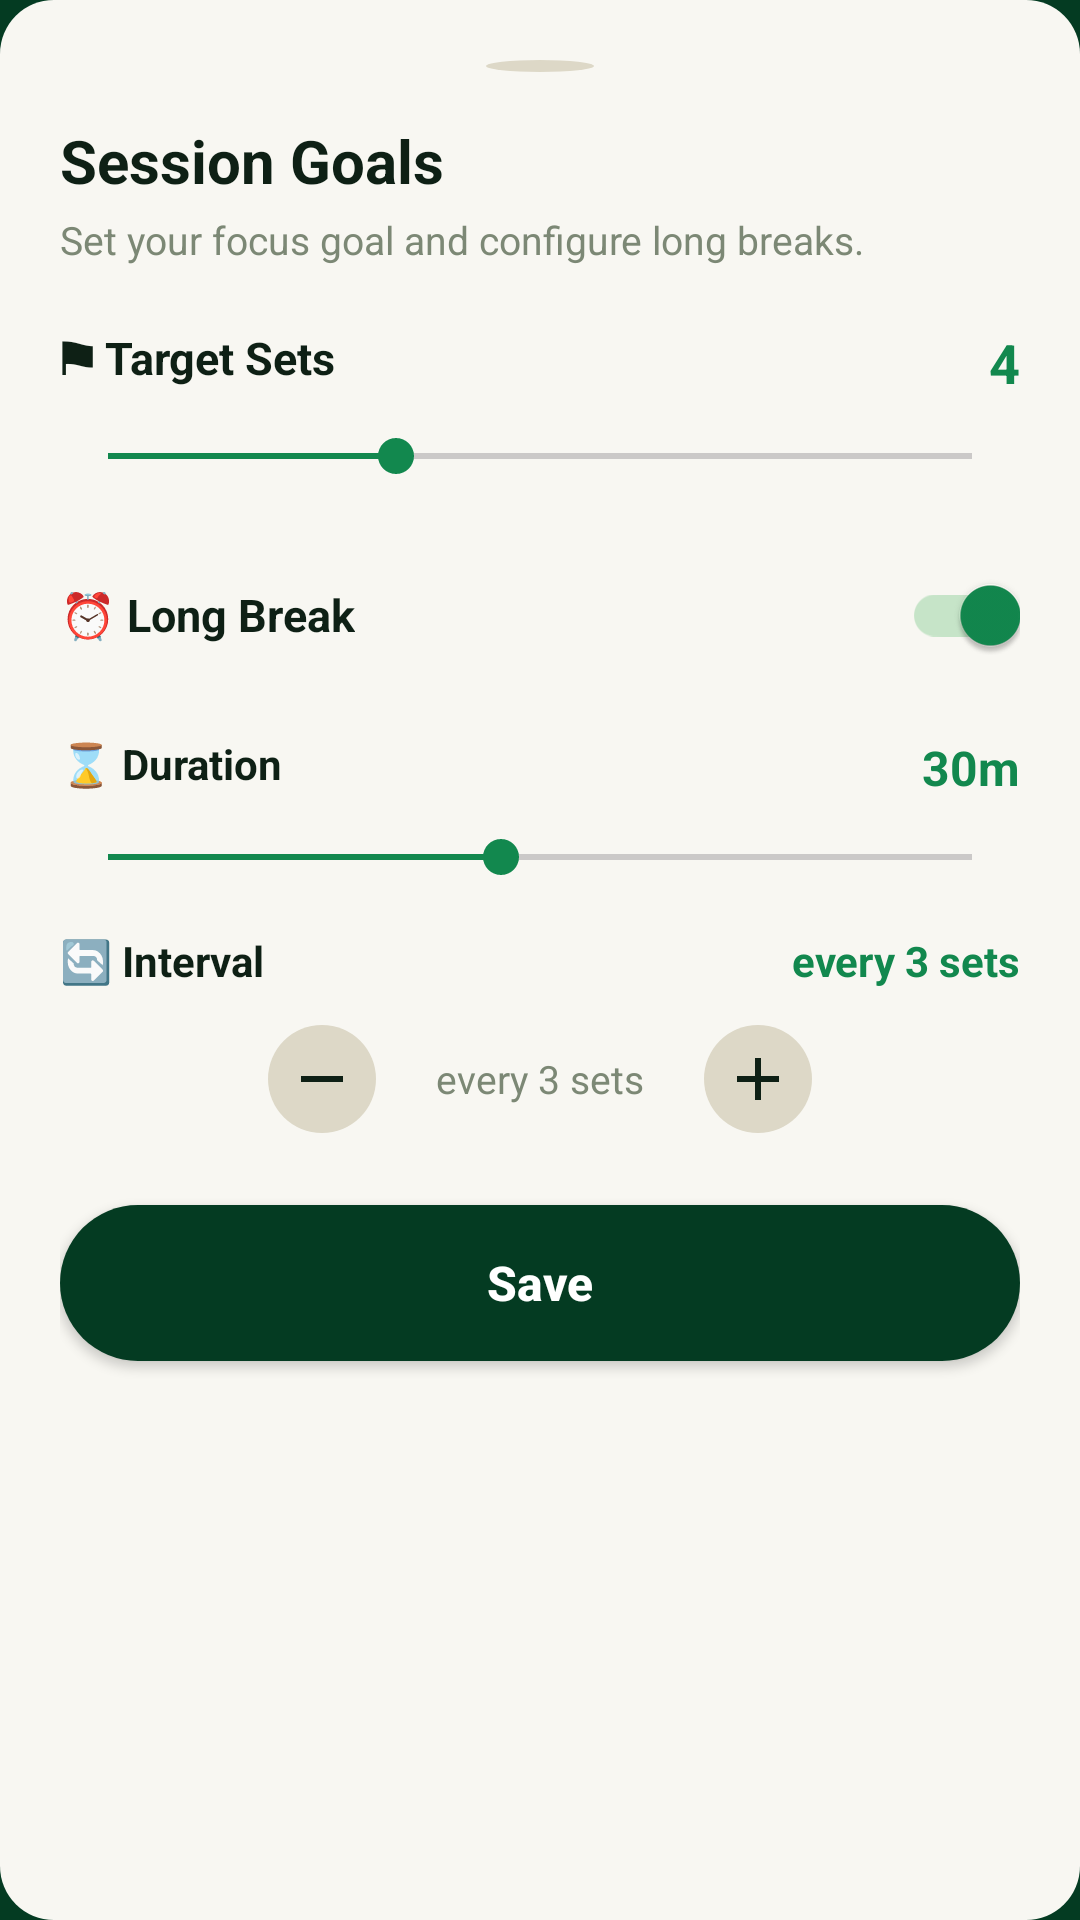

Icons on this 1080 x 1920 Android screen, each with the point to tap as [x,y]:
add: [758,1079]
remove: [322,1079]
